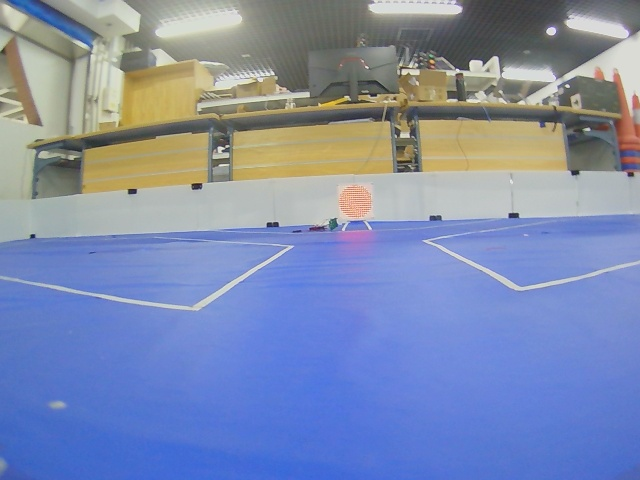red: (338, 185, 373, 220)
